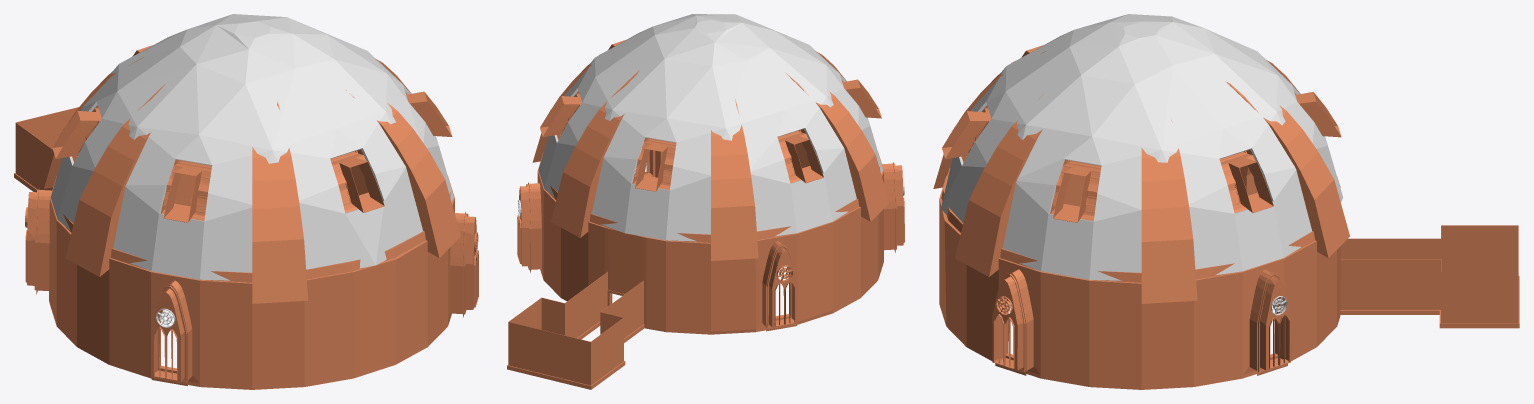
Rendered from libraryEX.fbx.
The picture shows the model from 3 angles, left to right: view 1: azimuth 30°, elevation 25°; view 2: azimuth 150°, elevation 25°; view 3: azimuth 270°, elevation 25°; orthographic projection. The views are drawn at different scales.
Parts seen in each view (by area): view 1: Cylinder.007, Cylinder.024, Cylinder.022, Cylinder.009, Cylinder.027, Cylinder.002, Circle.009; view 2: Cylinder.007, Cylinder.024, Cylinder.022, Cylinder.002, Cylinder.009, Cylinder.027, Cylinder.028, Circle.009, Circle; view 3: Cylinder.007, Cylinder.024, Cylinder.022, Cylinder.002, Cylinder.009, Cylinder.027, Circle.009, Circle.
Boxes of the visible parts, box(x1,y1,x2,y2) form: Cylinder.007: box(50, 14, 453, 280); Cylinder.024: box(34, 165, 468, 389); Cylinder.022: box(44, 57, 460, 303); Cylinder.009: box(52, 45, 452, 222); Cylinder.027: box(25, 188, 478, 385); Cylinder.002: box(15, 107, 163, 203); Circle.009: box(63, 192, 450, 282); Cylinder.007: box(538, 14, 883, 241); Cylinder.024: box(526, 142, 896, 334); Cylinder.022: box(532, 51, 888, 260); Cylinder.002: box(508, 272, 643, 385); Cylinder.009: box(540, 40, 881, 191); Cylinder.027: box(517, 150, 904, 331); Cylinder.028: box(605, 228, 646, 326); Circle.009: box(550, 166, 880, 242); Circle: box(507, 321, 644, 389); Cylinder.007: box(941, 14, 1342, 280); Cylinder.024: box(939, 152, 1340, 389); Cylinder.022: box(933, 51, 1349, 303); Cylinder.002: box(1340, 225, 1518, 323); Cylinder.009: box(942, 45, 1341, 222); Cylinder.027: box(992, 272, 1291, 375); Circle.009: box(941, 168, 1338, 282); Circle: box(1340, 276, 1519, 328).
Size of the model in its own units: 4349 by 3057 by 5909.
